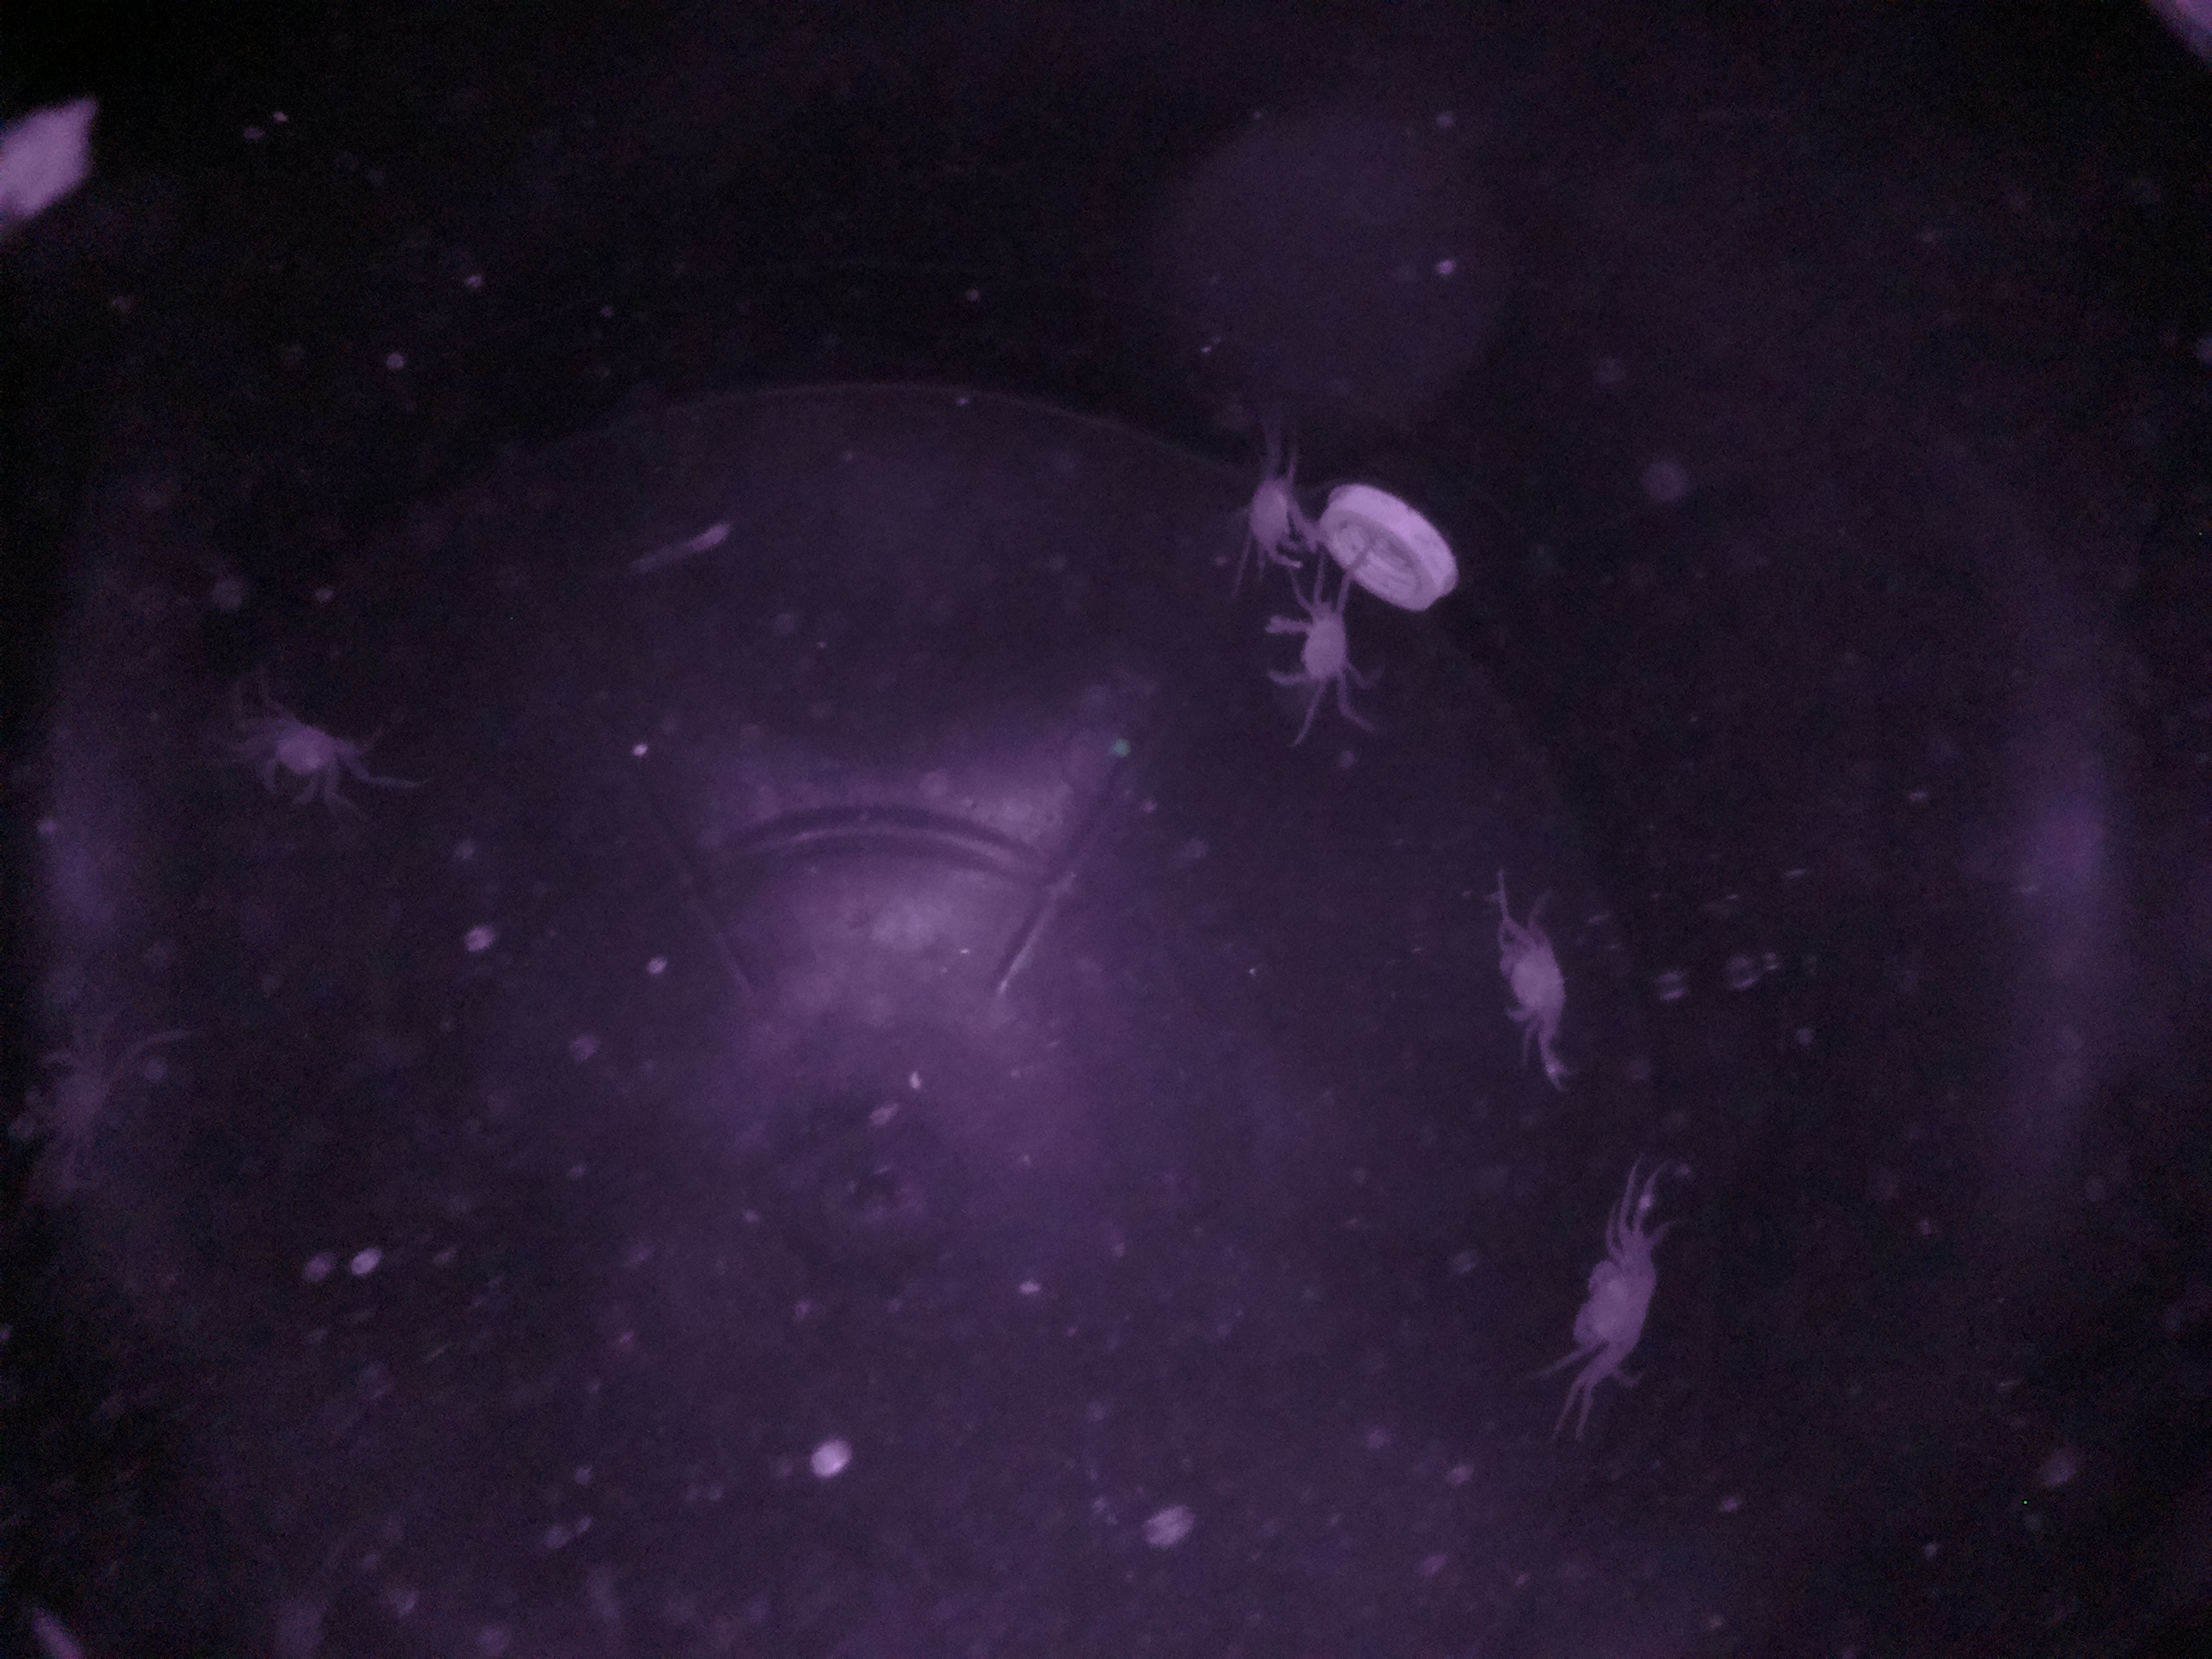Crab: (1561, 1230, 1684, 1399), (1245, 603, 1386, 702)
